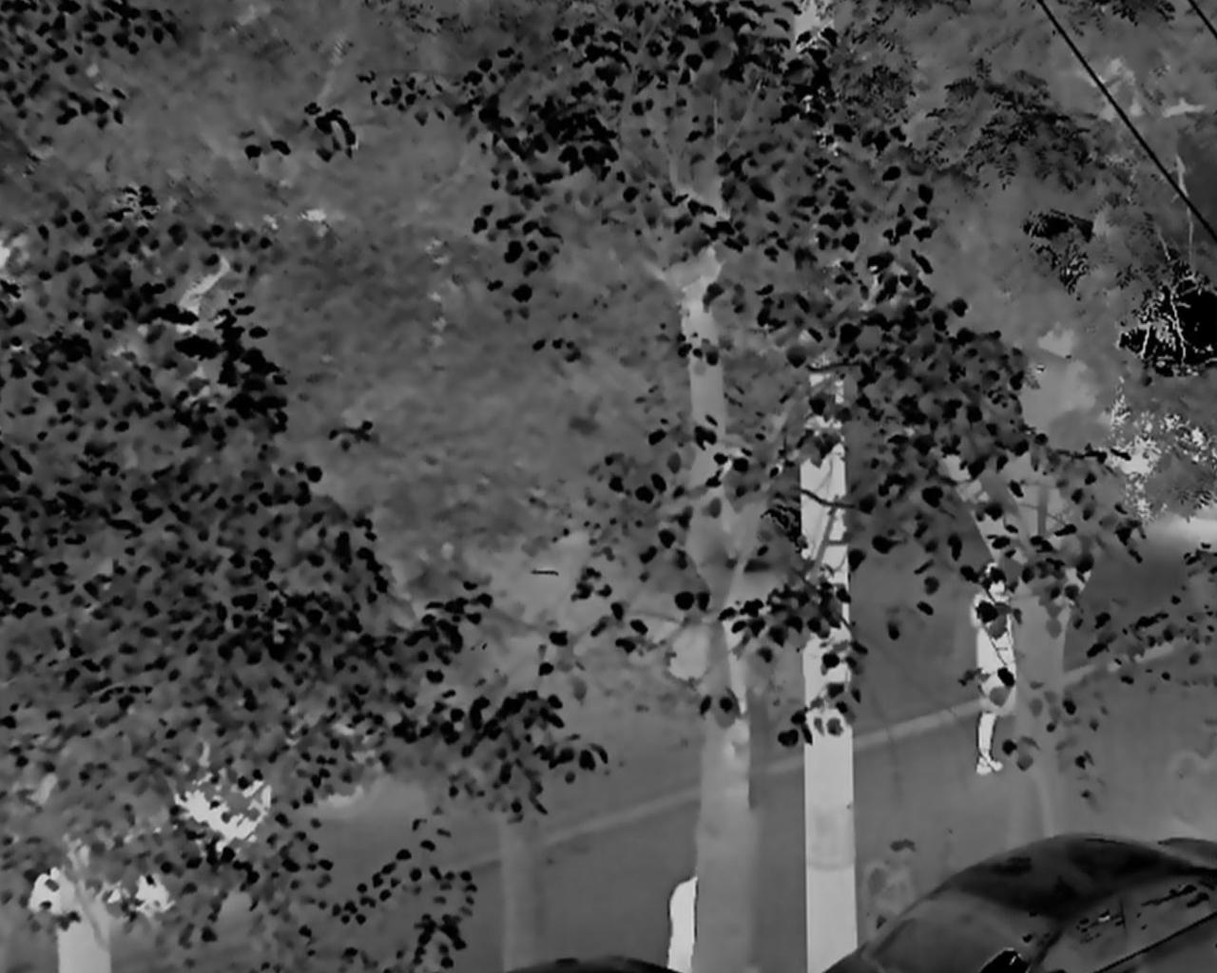person: (969, 563, 1022, 777)
